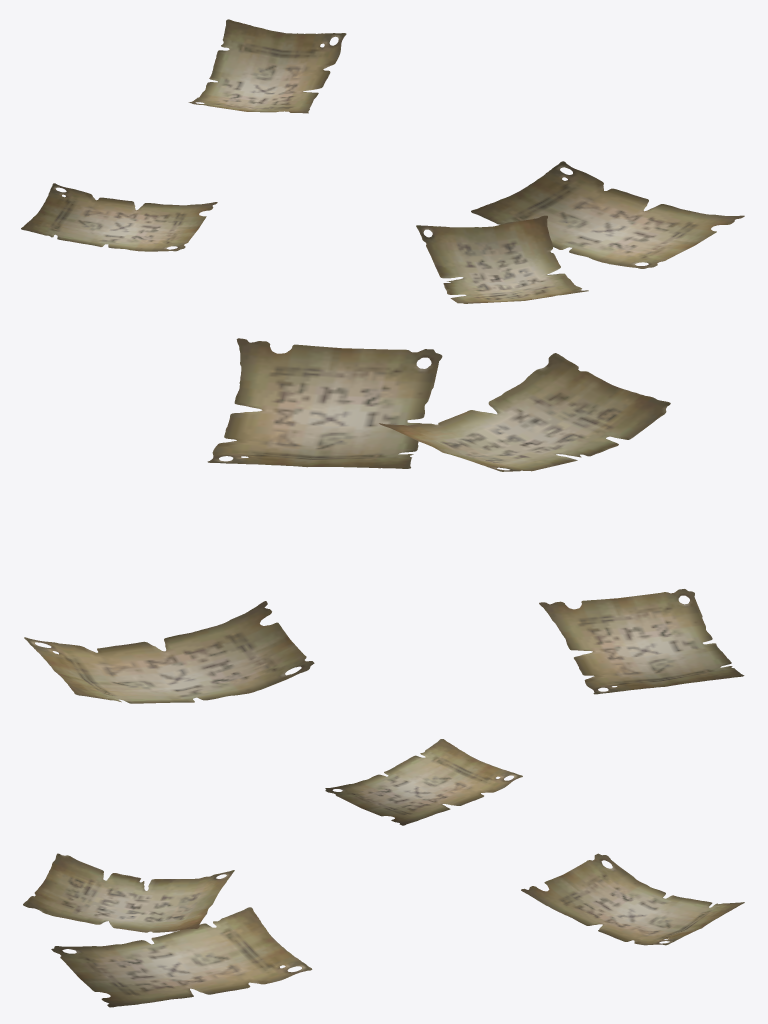
File: 6hu_barracks_scatteredpapers02.obj
3 renders of one model, top to bottom at view 1: azimuth 30°, elevation 25°; view 2: azimuth 150°, elevation 25°; view 3: azimuth 270°, elevation 25°, orthographic. The views are drawn at different scales.
Parts seen in each view (by area): view 1: 6HU_BARRACKS_SCATTEREDPAPERS020; view 2: 6HU_BARRACKS_SCATTEREDPAPERS020; view 3: 6HU_BARRACKS_SCATTEREDPAPERS020.
Boxes of the visible parts, x1=… form: 6HU_BARRACKS_SCATTEREDPAPERS020: x1=21, y1=19, x2=744, y2=303; 6HU_BARRACKS_SCATTEREDPAPERS020: x1=24, y1=338, x2=744, y2=703; 6HU_BARRACKS_SCATTEREDPAPERS020: x1=23, y1=739, x2=744, y2=1007.
Bounding box in the file's own units: 1.91 × 0.0886 × 2.16.
1 material, 1 textured.
